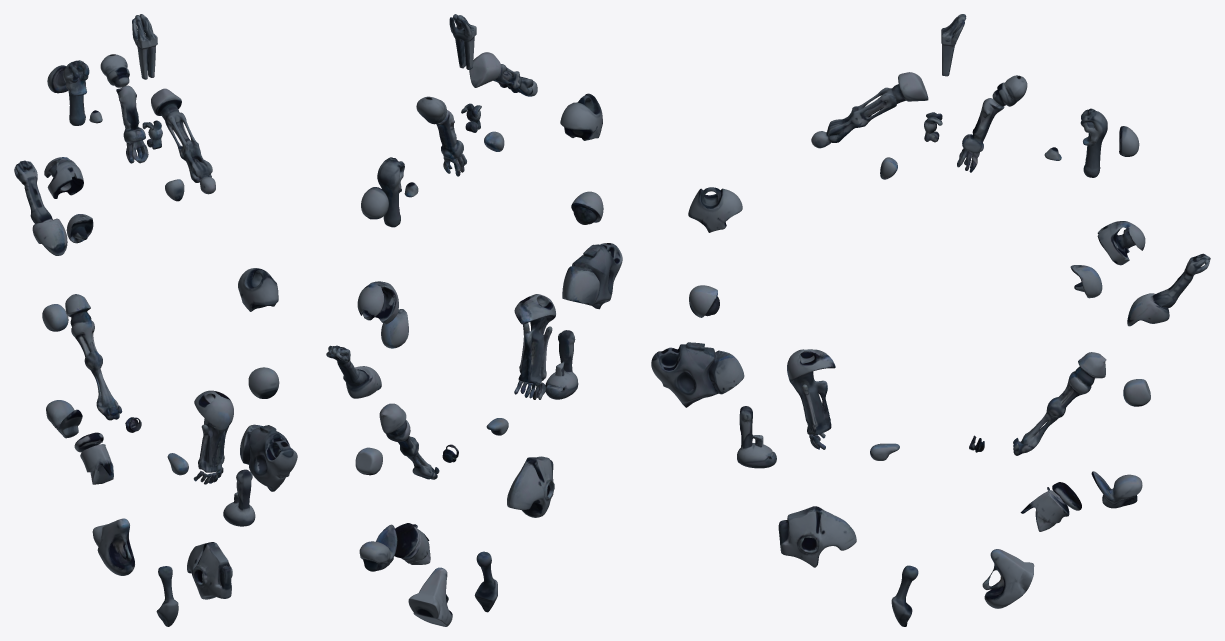
The model's file is Hnoid_Bongkahan.fbx.
3 views of the same model, side by side, from view 1: azimuth 30°, elevation 25°; view 2: azimuth 150°, elevation 25°; view 3: azimuth 270°, elevation 25° (orthographic). The views are drawn at different scales.
Parts seen in each view (by area): view 1: tripo_node_094dc158; view 2: tripo_node_094dc158; view 3: tripo_node_094dc158.
Part boxes in pixels (x1,y1,x2,y2): tripo_node_094dc158: [14, 14, 297, 626]; tripo_node_094dc158: [326, 14, 622, 626]; tripo_node_094dc158: [651, 14, 1210, 626].
Bounding box in the file's own units: 0.0574 × 1 × 0.8289.
1 material, 1 textured.
